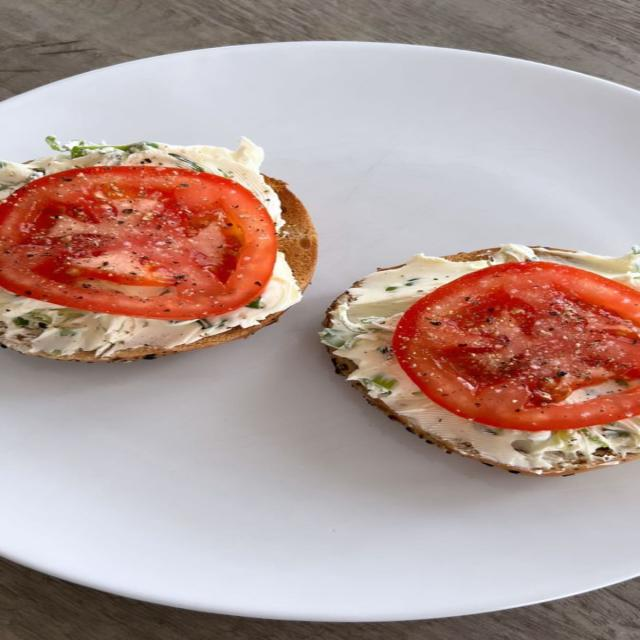sliced_bread: (326, 343, 639, 477), (18, 311, 282, 362), (265, 175, 317, 291), (446, 248, 498, 266), (600, 426, 639, 444), (300, 238, 309, 249)
sliced_tomato: (0, 167, 276, 319), (393, 262, 639, 430)
